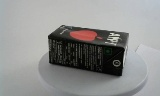appy: (41, 24, 121, 76)
